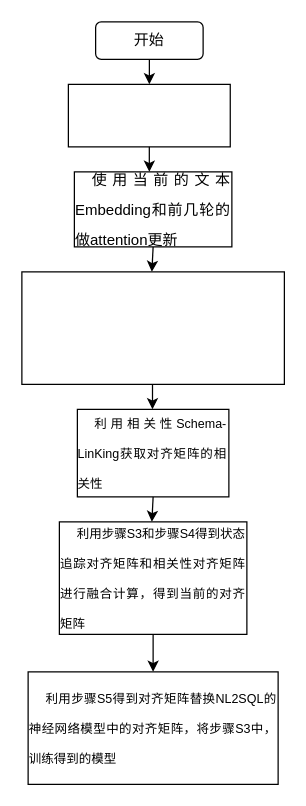
This 306x806 diagram has some shape labels left out. Here are the shapes that lost their labels. From the top down, the centre of each, then its label:
point 148,115: 获取问题文本和数据库模式的Embedding
point 152,327: 使用步骤 S3得到的文本Embedding和上一轮的对齐矩阵进行attention操作，生成的状态追踪对齐矩阵与label做交叉熵计算
